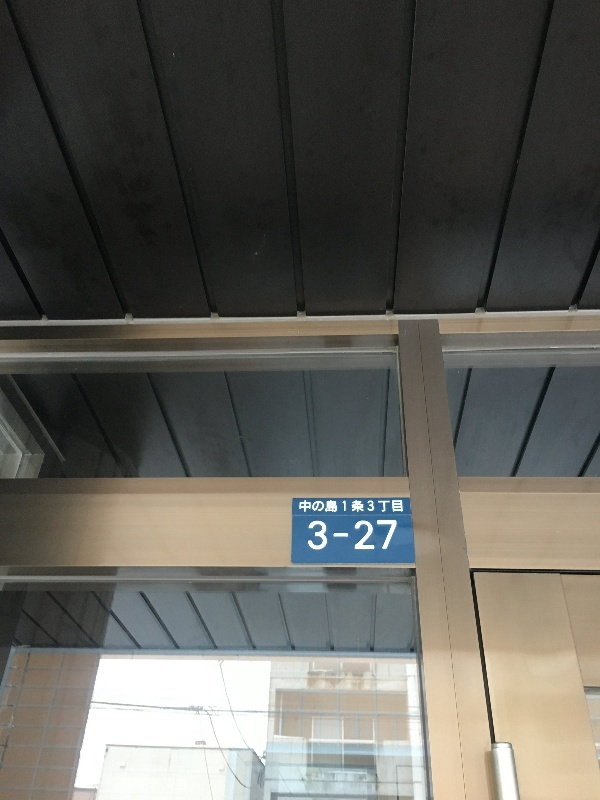text: (321, 520, 336, 550), (337, 520, 352, 550), (353, 520, 368, 550), (369, 520, 384, 550), (385, 520, 398, 550), (309, 520, 320, 550), (305, 500, 320, 513), (321, 500, 336, 513), (337, 500, 352, 513), (353, 500, 368, 513), (369, 500, 384, 513), (385, 500, 400, 513), (299, 500, 304, 513), (401, 500, 404, 513)
